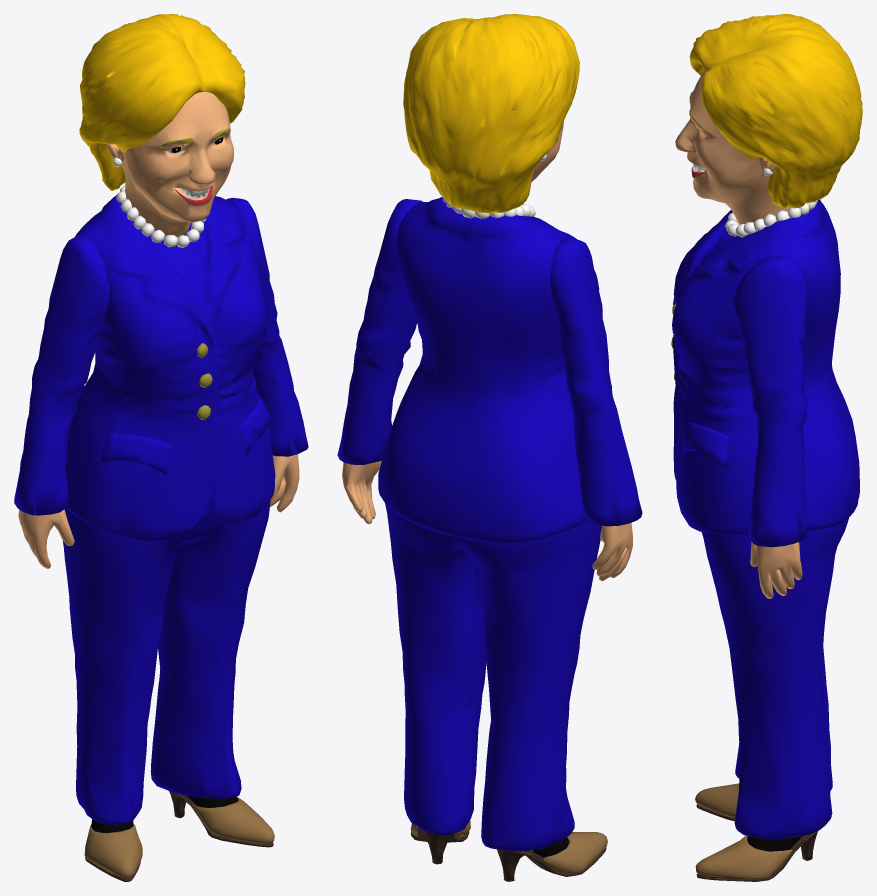
Rendered from trillerynew.dae.
3 renders of one model, left to right at view 1: azimuth 30°, elevation 25°; view 2: azimuth 150°, elevation 25°; view 3: azimuth 270°, elevation 25°, orthographic. The views are drawn at different scales.
Parts seen in each view (by area): view 1: hillary-action-figure; view 2: hillary-action-figure; view 3: hillary-action-figure.
Boxes of the visible parts, x1=… form: hillary-action-figure: x1=14, y1=14, x2=308, y2=881; hillary-action-figure: x1=337, y1=14, x2=642, y2=881; hillary-action-figure: x1=671, y1=14, x2=862, y2=881.
Size of the model in its own units: 0.6174 by 0.3553 by 1.67.
